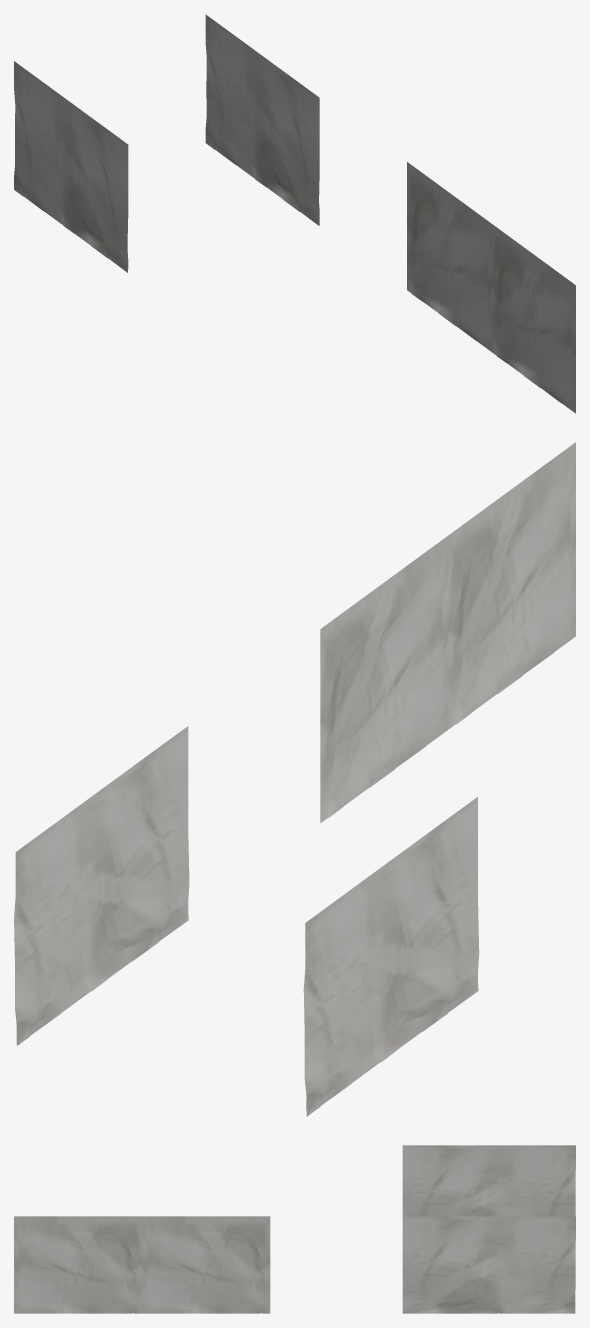
File: MuroVagonBar2.FBX
3 renders of one model, top to bottom at view 1: azimuth 30°, elevation 25°; view 2: azimuth 150°, elevation 25°; view 3: azimuth 270°, elevation 25°, orthographic. The views are drawn at different scales.
Visible parts, largest first — view 1: Parerd; view 2: Parerd; view 3: Parerd.
Part boxes in pixels (box(x1,y1,x2,y2)): Parerd: box(14, 14, 575, 413); Parerd: box(14, 442, 575, 1116); Parerd: box(14, 1145, 575, 1313).
Size of the model in its own units: 535 by 337 by 1764.
